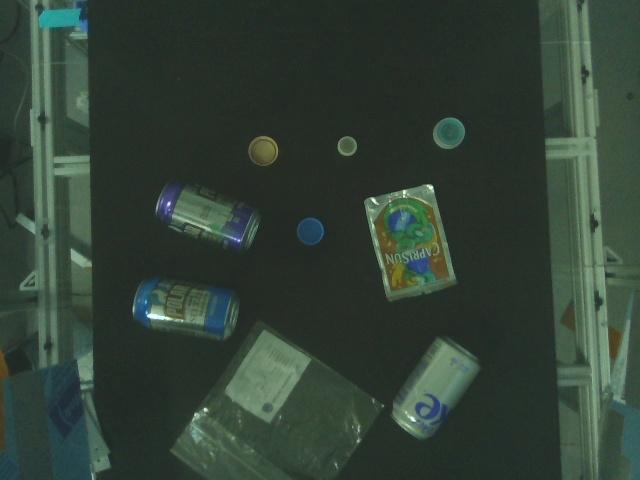metal: (393, 336, 481, 440), (155, 178, 262, 254), (131, 275, 242, 342)
plastic: (170, 318, 386, 480), (365, 183, 458, 303), (432, 117, 467, 151), (248, 135, 280, 168), (297, 217, 326, 246), (338, 136, 358, 157)
